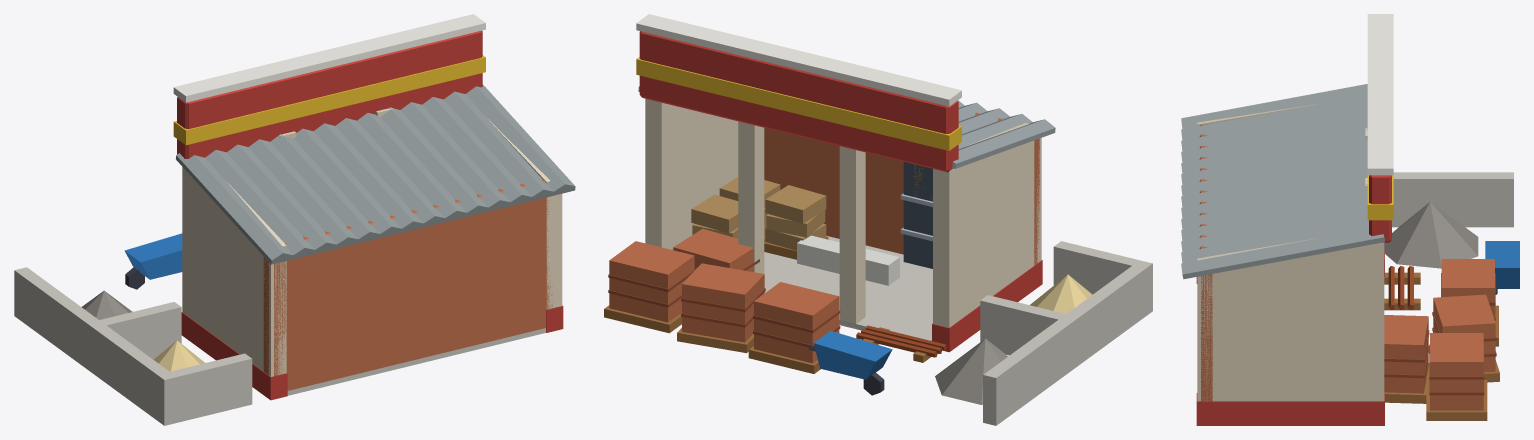
The model's file is deposito.glb.
3 renders of one model, left to right at view 1: azimuth 30°, elevation 25°; view 2: azimuth 150°, elevation 25°; view 3: azimuth 270°, elevation 25°, orthographic. The views are drawn at different scales.
Visible parts, largest first — view 1: corpo; view 2: corpo; view 3: corpo.
Boxes of the visible parts, bbox=[...] form: corpo: bbox=[14, 14, 575, 425]; corpo: bbox=[604, 14, 1152, 425]; corpo: bbox=[1181, 14, 1519, 425].
Size of the model in its own units: 1.29 by 0.75 by 0.8874.
